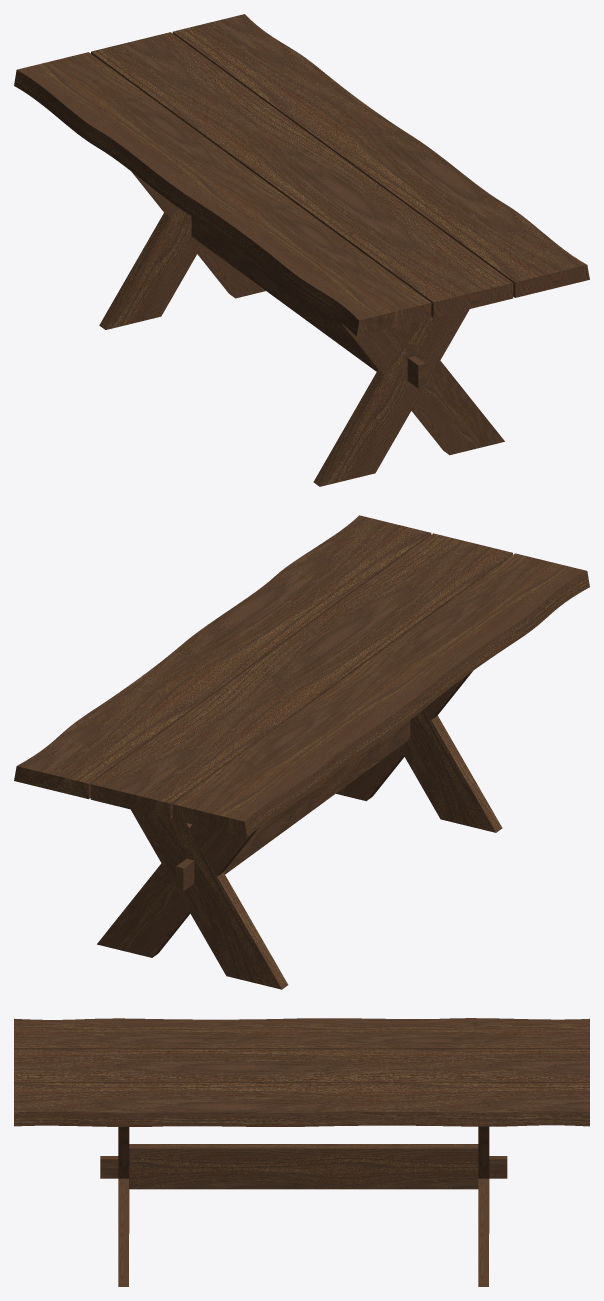
File: outside_table-transformed.glb
The picture shows the model from 3 angles, top to bottom: view 1: azimuth 30°, elevation 25°; view 2: azimuth 150°, elevation 25°; view 3: azimuth 270°, elevation 25°; orthographic projection. The views are drawn at different scales.
Parts seen in each view (by area): view 1: Cube.002, Cube, Cube.001, Plane.001, Plane.002, Cube.005; view 2: Cube.002, Cube, Cube.001, Plane.002, Plane.001, Cube.005; view 3: Cube.001, Cube, Cube.002, Cube.005, Plane.002, Plane.001, Cube.007, Cube.008.
Part boxes in pixels (x1,y1,x2,y2): Cube.002: [14, 52, 431, 336]; Cube: [91, 32, 513, 317]; Cube.001: [172, 14, 589, 297]; Plane.001: [313, 309, 504, 486]; Plane.002: [99, 172, 265, 329]; Cube.005: [191, 216, 416, 392]; Cube.002: [172, 553, 589, 837]; Cube: [90, 533, 512, 818]; Cube.001: [14, 515, 431, 799]; Plane.002: [97, 809, 288, 989]; Plane.001: [336, 671, 502, 832]; Cube.005: [185, 720, 410, 888]; Cube.001: [14, 1082, 589, 1126]; Cube: [14, 1049, 589, 1082]; Cube.002: [14, 1018, 589, 1049]; Cube.005: [129, 1144, 478, 1189]; Plane.002: [478, 1126, 489, 1286]; Plane.001: [118, 1127, 129, 1286]; Cube.007: [100, 1156, 118, 1178]; Cube.008: [489, 1156, 507, 1178].
Size of the model in its own units: 1.28 by 1.12 by 3.2.
Materials: 1 (1 with a texture image).
